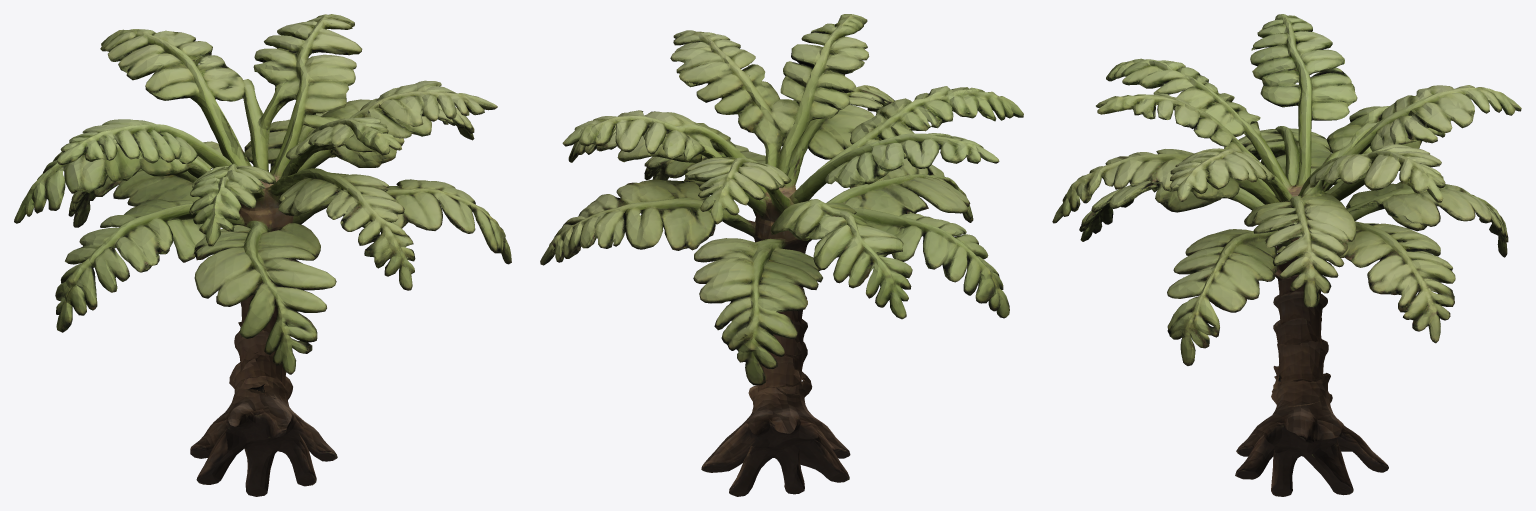
3 views of the same model, side by side, from view 1: azimuth 30°, elevation 25°; view 2: azimuth 150°, elevation 25°; view 3: azimuth 270°, elevation 25° (orthographic). The views are drawn at different scales.
Visible parts, largest first — view 1: world; view 2: world; view 3: world.
Part boxes in pixels (bbox=[...]): world: bbox=[14, 14, 511, 496]; world: bbox=[540, 14, 1023, 496]; world: bbox=[1052, 14, 1521, 496].
Size of the model in its own units: 5.2 by 4.5 by 5.01.
1 material, 1 textured.
